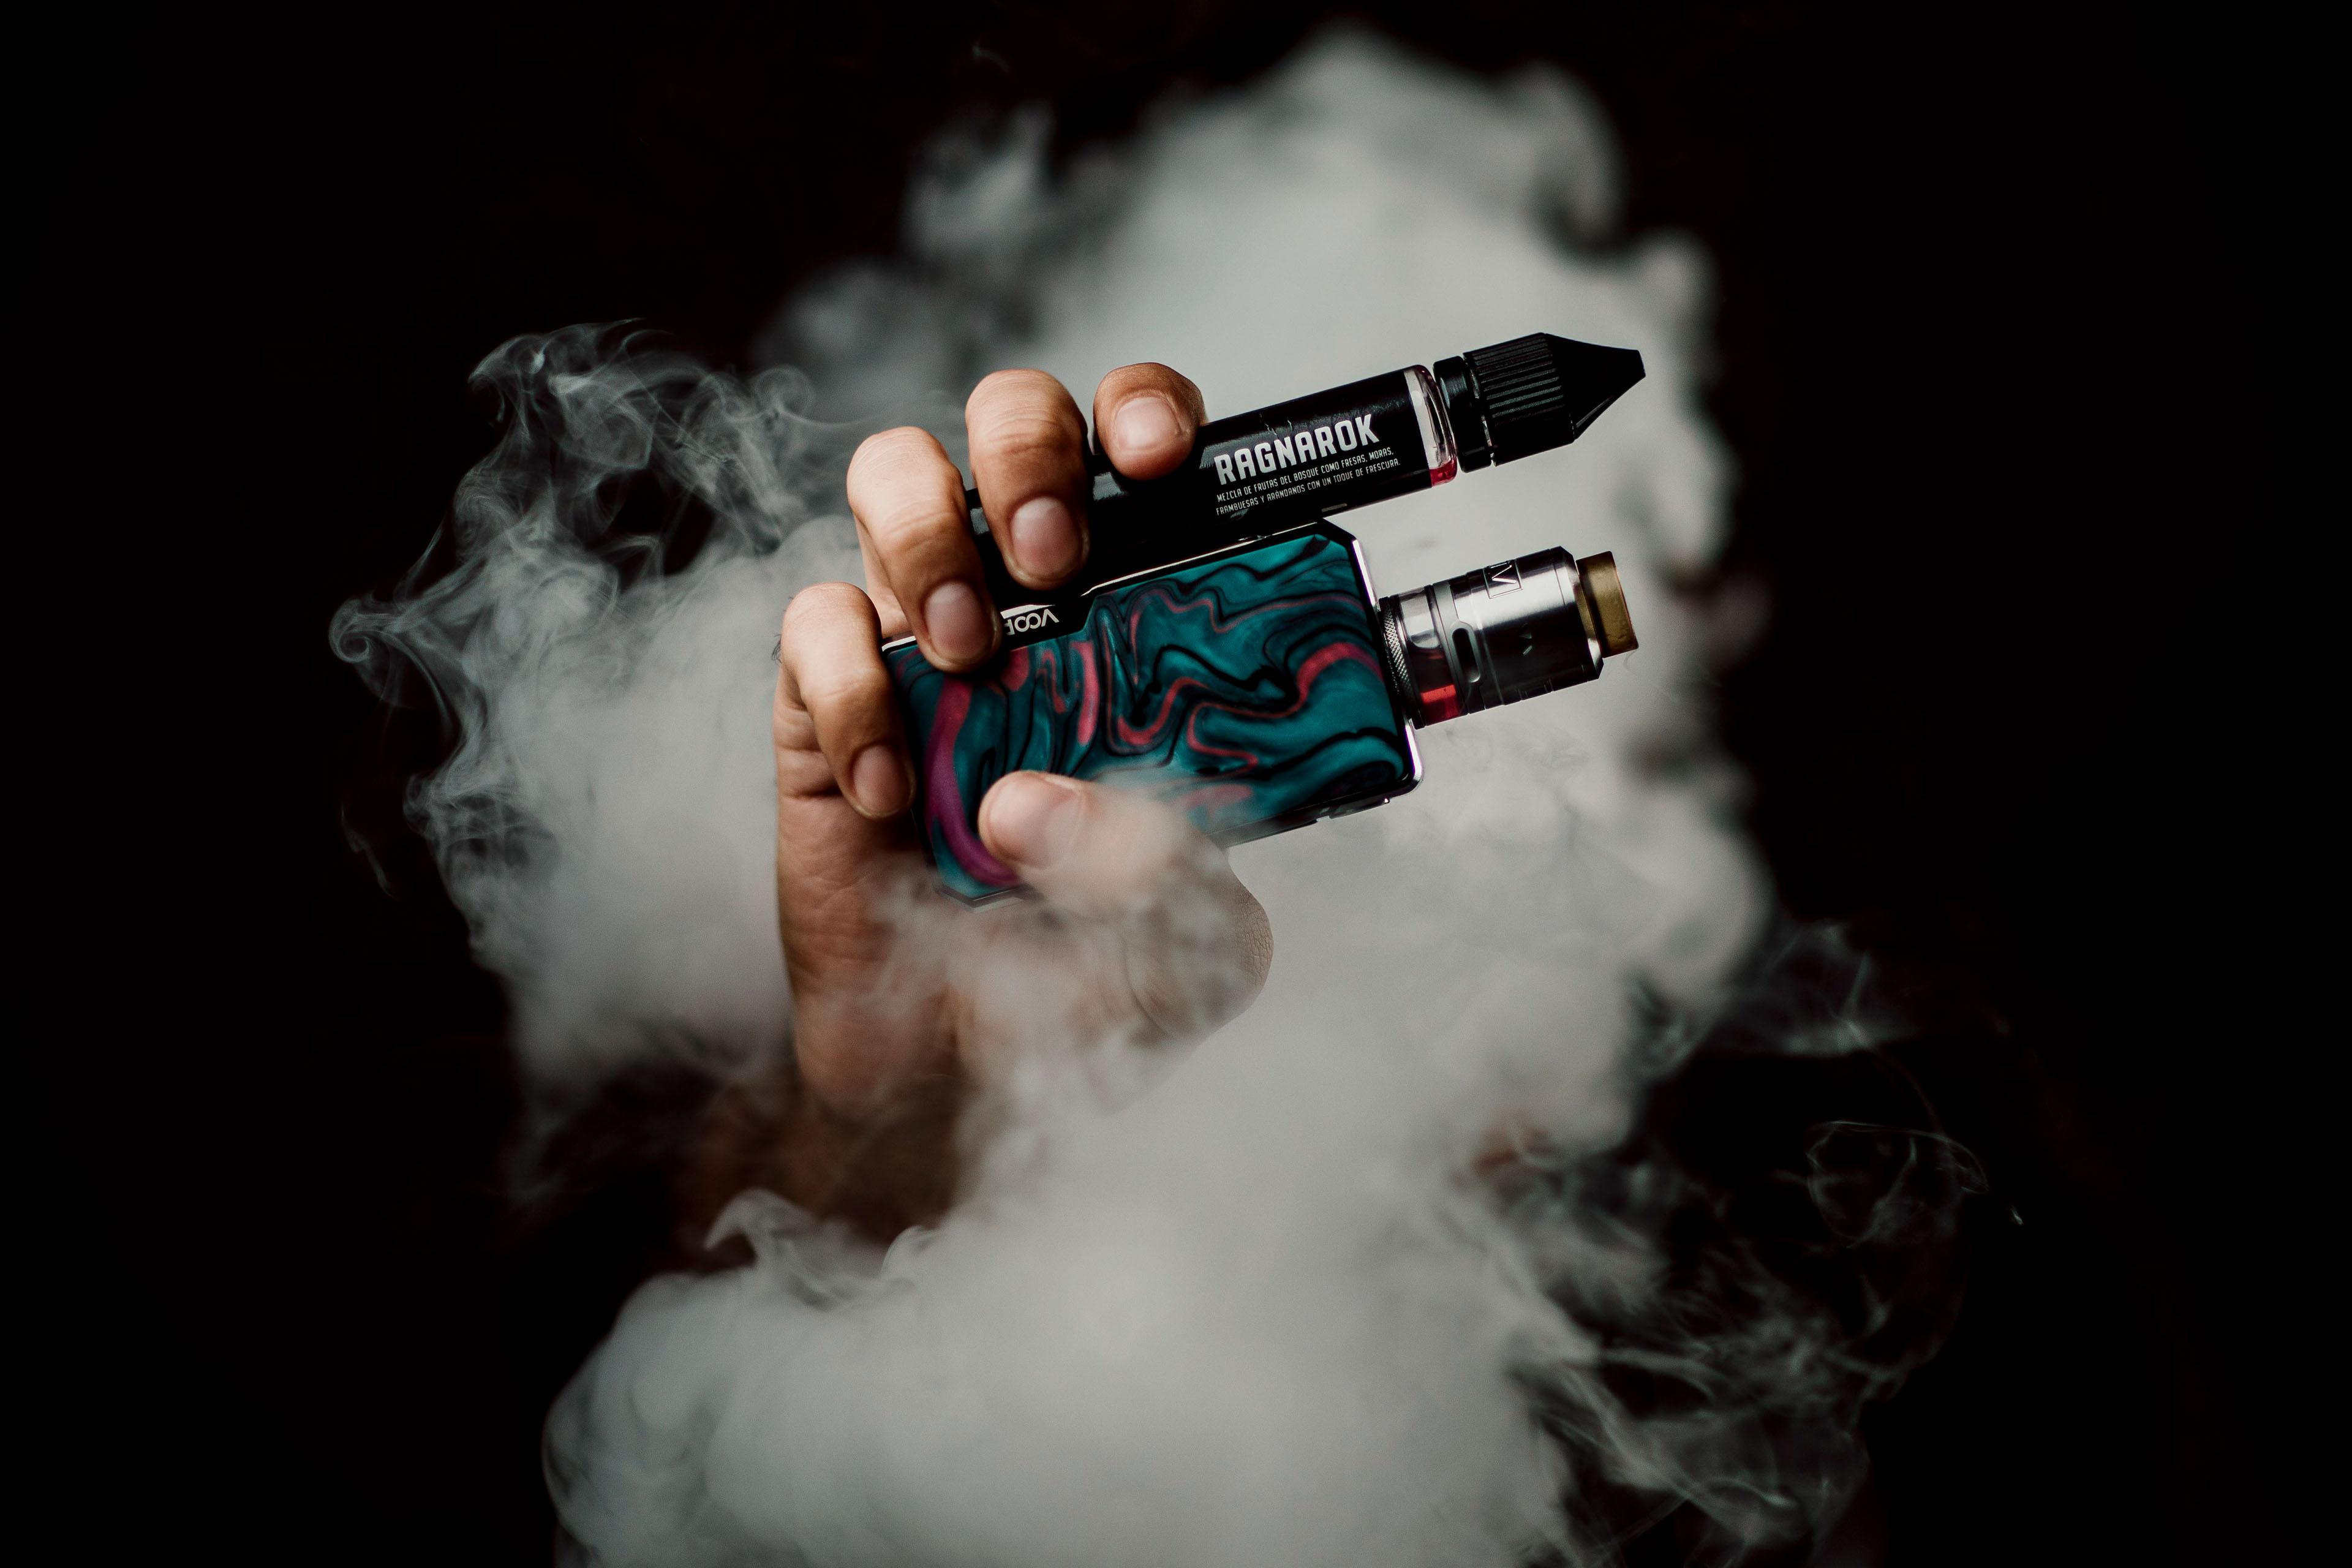Vape: (882, 521, 1638, 903)
